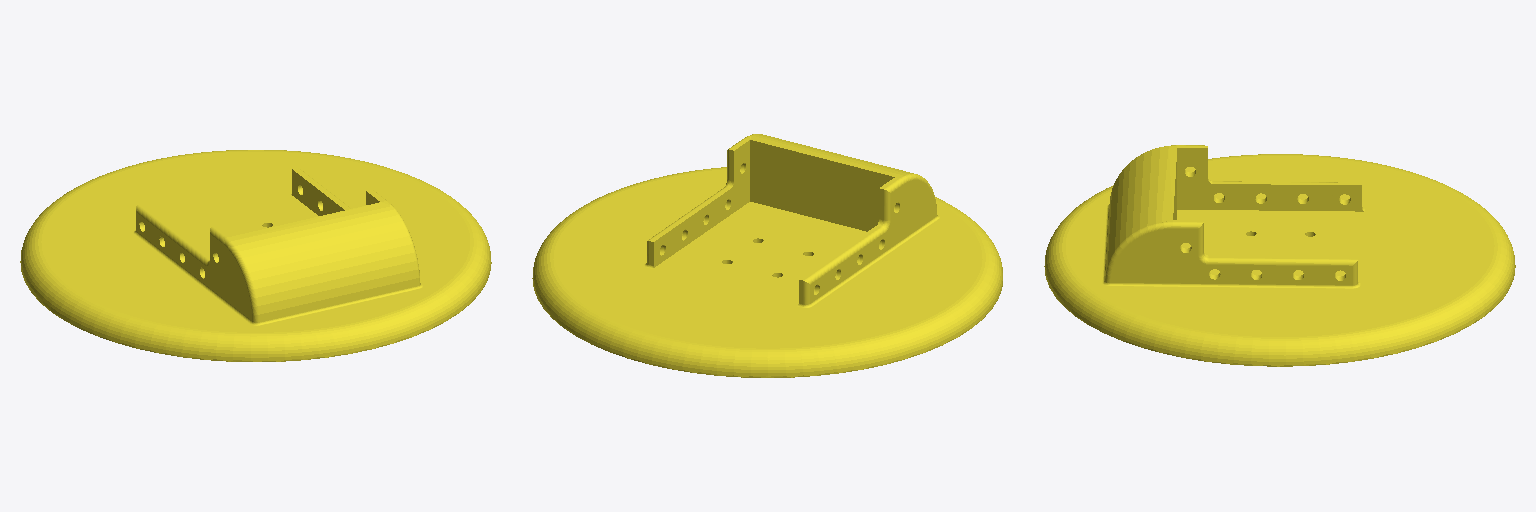
robot.urdf — my_robot:
<robot name="my_robot">
	<link name="base">
		<visual>
			<geometry>
				<mesh filename="package://robot_decapsuleur_description/stl/base_plate-1.STL" scale="0.01 0.01 0.01"/>
			</geometry>
		  <origin rpy="0 0 0" xyz="-0.6 -0.6 0"/>
		</visual>
	</link>
	<link name="base2">
		<visual>
			<geometry>
				<mesh filename="package://robot_decapsuleur_description/stl/base_plate-2.STL" scale="0.01 0.01 0.01"/>
			</geometry>
			<origin rpy="0 0 0" xyz="-0.45 -0.45 0"/>
		</visual>
	</link>
	<link name="dyna1">
		<visual>
			<geometry>
				<mesh filename="package://robot_decapsuleur_description/stl/DYNAMIXEL_AX-12A.STL" scale="0.01 0.01 0.01"/>
			</geometry>
			<origin rpy="0 0 -1.5708" xyz="0 0 0"/>
		</visual>
	</link>
	<link name="rot">
		<visual>
			<geometry>
				<mesh filename="package://robot_decapsuleur_description/stl/Rotating_plate.STL" scale="0.01 0.01 0.01"/>
			</geometry>
			<origin rpy="0 0 0.1" xyz="-0.4 -0.5 0"/>
		</visual>
	</link>
	<link name="dyna2">
		<visual>
			<geometry>
				<mesh filename="package://robot_decapsuleur_description/stl/DYNAMIXEL_AX-12A.STL" scale="0.01 0.01 0.01"/>
			</geometry>
			<origin rpy="1.5708 0 -1.5708" xyz="0.008 0.175 0.205"/>
		</visual>
	</link>
	<link name="arm1">
		<visual>
			<geometry>
				<mesh filename="package://robot_decapsuleur_description/stl/arm.STL" scale="0.01 0.01 0.01"/>
			</geometry>
			<origin rpy="1.5708 -1.5708 0" xyz="0 1.435 -0.755"/>
		</visual>
	</link>
	<link name="dyna3">
		<visual>
			<geometry>
				<mesh filename="package://robot_decapsuleur_description/stl/DYNAMIXEL_AX-12A.STL" scale="0.01 0.01 0.01"/>
			</geometry>
			<origin rpy="0 1.5708 3.1415" xyz="-0.565 0 2.09"/>
		</visual>
	</link>
	<link name="arm2">
		<visual>
			<geometry>
				<mesh filename="package://robot_decapsuleur_description/stl/arm.STL" scale="0.01 0.01 0.01"/>
			</geometry>
			<origin rpy="1.5708 -1.5708 0" xyz="0 1.435 -0.755"/>
		</visual>
	</link>



	<joint name="joint0" type="fixed">
		<parent link="base"/>
		<child link="base2"/>
		<origin rpy="0 0 0" xyz="0 0 0.63"/>
	</joint>
	<joint name="joint1" type="fixed">
		<parent link="base2"/>
		<child link="dyna1"/>
		<origin rpy="0 0 0" xyz="0 0 -0.15"/>
	</joint>
	<joint name="joint2" type="continuous">
		<parent link="dyna1"/>
		<child link="rot"/>
		<origin rpy="0 0 0" xyz="0 0 0.185"/>
		<axis xyz="0 0 1" />
	</joint>
	<joint name="joint3" type="fixed">
		<parent link="rot"/>
		<child link="dyna2"/>
		<origin rpy="0 0 0" xyz="0 0 0"/>
	</joint>
	<joint name="joint4" type="continuous">
		<parent link="dyna2"/>
		<child link="arm1"/>
		<origin rpy="0 0 0" xyz="0.55 0.175 0.205"/>
	</joint>
	<joint name="joint5" type="fixed">
		<parent link="arm1"/>
		<child link="dyna3"/>
		<origin rpy="0 0 0" xyz="0 0 0"/>
	</joint>
	<joint name="joint6" type="continuous">
		<parent link="dyna3"/>
		<child link="arm2"/>
		<origin rpy="0 0 0" xyz="0 0 2.09"/>
	</joint>

</robot>

--- Render facts (derived) ---
Views: 3 orthographic renders of the robot side by side, from view 1: azimuth 30°, elevation 25°; view 2: azimuth 150°, elevation 25°; view 3: azimuth 270°, elevation 25°.
Model my_robot with 8 links and 7 joints (3 continuous, 4 fixed), rooted at base, posed every joint at zero.
Links seen in each view (by area): view 1: rot; view 2: rot; view 3: rot.
Boxes of the visible links, x1,y1,x2,y2 form: rot: (20,150,491,361); rot: (532,134,1002,377); rot: (1044,145,1515,366).
Size in the robot's own frame: 0.899 by 0.899 by 0.1735 metres.
Meshes: 5 distinct files referenced, 1 mesh visuals loaded (1 binary STL); not drawn: 7 (reference not matched to a file when rendering).